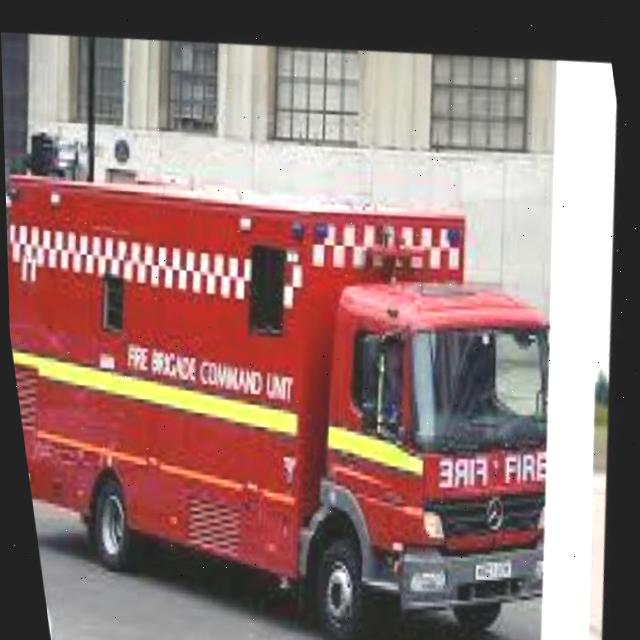emergency: (3, 113, 587, 640)
